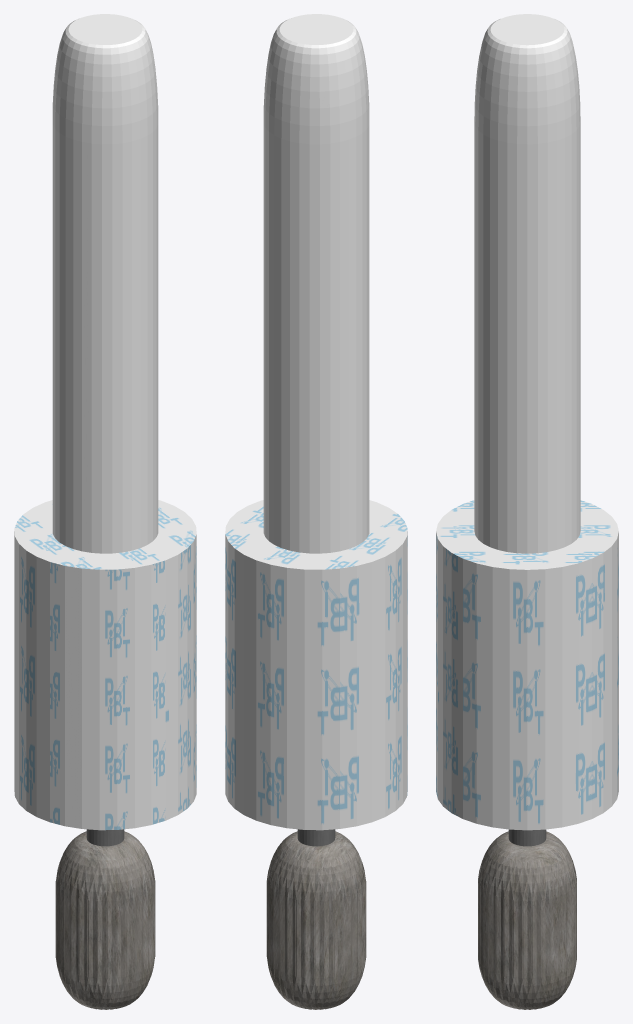
File: dnastick.glb
3 views of the same model, side by side, from view 1: azimuth 30°, elevation 25°; view 2: azimuth 150°, elevation 25°; view 3: azimuth 270°, elevation 25° (orthographic).
Parts seen in each view (by area): view 1: Cylinder; view 2: Cylinder; view 3: Cylinder.
Part boxes in pixels (x1,y1,x2,y2): Cylinder: (14, 14, 196, 1009); Cylinder: (225, 14, 407, 1009); Cylinder: (436, 14, 618, 1009).
Bounding box in the file's own units: 0.5064 × 2.97 × 0.5064.
5 materials, 3 textured.
